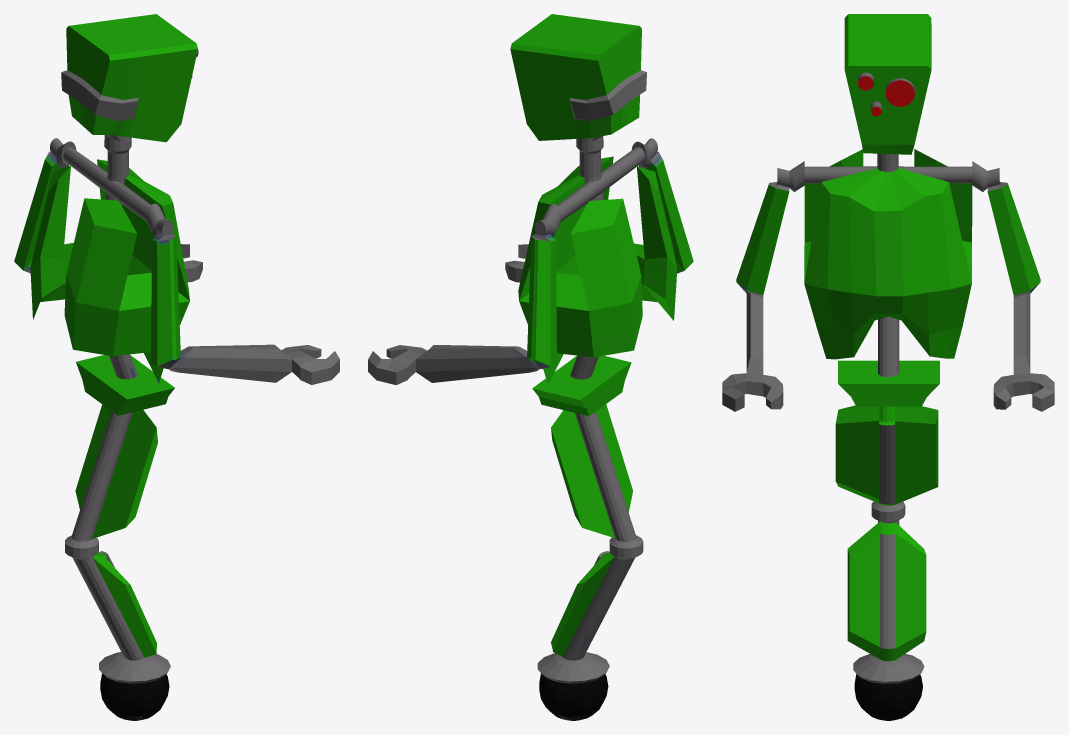
File: player_green.obj
3 views of the same model, side by side, from view 1: azimuth 30°, elevation 25°; view 2: azimuth 150°, elevation 25°; view 3: azimuth 270°, elevation 25° (orthographic).
Visible parts, largest first — view 1: Sphere_Sphere.002; view 2: Sphere_Sphere.002; view 3: Sphere_Sphere.002.
Boxes of the visible parts, left/top/right/bottom form: Sphere_Sphere.002: left=14, top=14, right=339, bottom=720; Sphere_Sphere.002: left=368, top=14, right=693, bottom=720; Sphere_Sphere.002: left=722, top=14, right=1054, bottom=720.
Bounding box in the file's own units: 6.9 × 21.73 × 9.61.
1 material, 1 textured.
